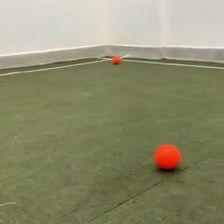ball: (153, 142, 183, 173), (111, 55, 120, 65)
